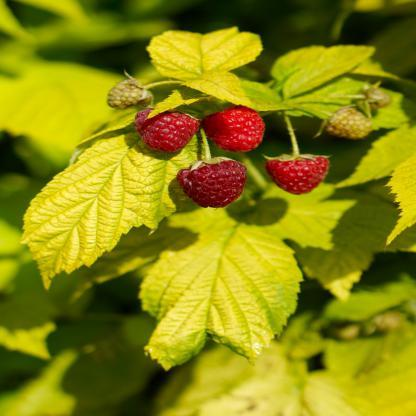Raspberry leaf: (19, 108, 201, 292), (138, 226, 306, 370), (146, 23, 271, 81), (174, 70, 257, 108)
